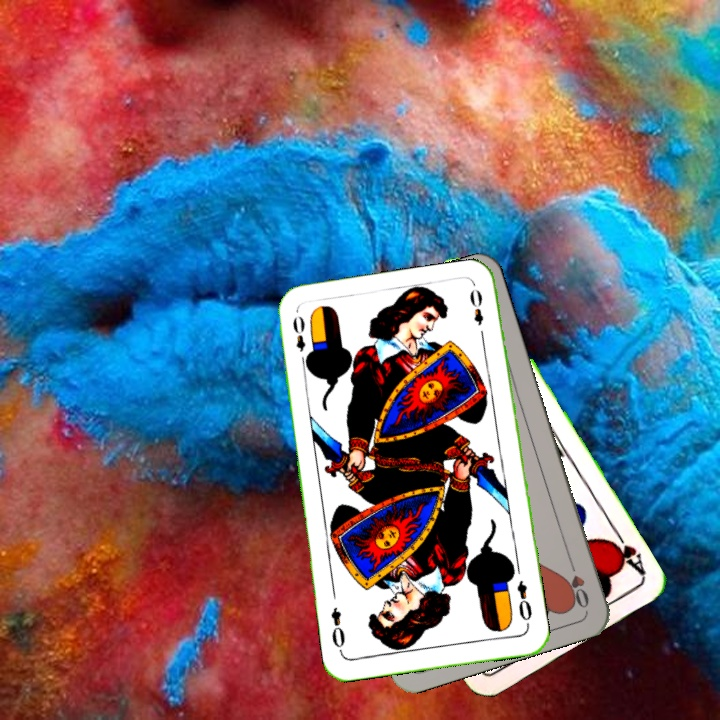EO: (288, 311, 313, 368), (512, 576, 535, 623)
HA: (603, 524, 648, 578)
HO: (563, 554, 592, 611)
